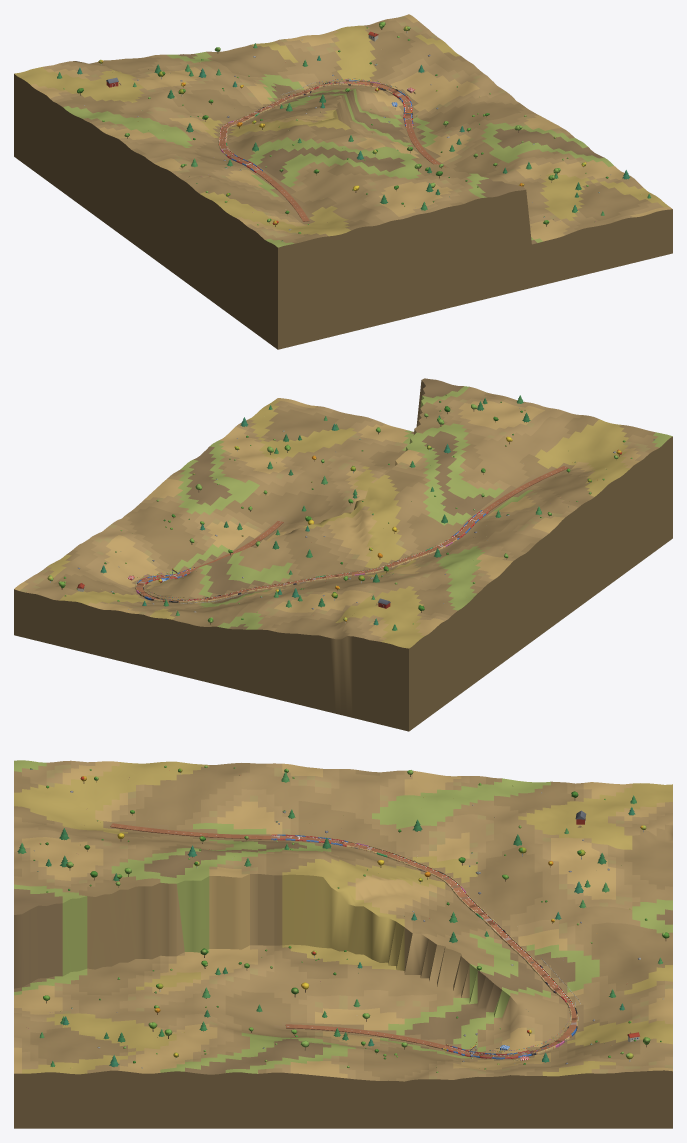
3 renders of one model, top to bottom at view 1: azimuth 30°, elevation 25°; view 2: azimuth 150°, elevation 25°; view 3: azimuth 270°, elevation 25°, orthographic. The views are drawn at different scales.
Visible parts, largest first — view 1: grass, road, pines, hay, leafy trees; view 2: grass, road, hay, pines, leafy trees; view 3: grass, road, pines, hay, leafy trees.
Part boxes in pixels (x1=…): grass: x1=14, y1=14, x2=672, y2=349; road: x1=219, y1=81, x2=445, y2=221; pines: x1=57, y1=43, x2=650, y2=215; hay: x1=218, y1=80, x2=413, y2=172; leafy trees: x1=77, y1=21, x2=560, y2=224; grass: x1=14, y1=378, x2=672, y2=731; road: x1=136, y1=466, x2=568, y2=601; hay: x1=135, y1=510, x2=488, y2=602; pines: x1=100, y1=395, x2=541, y2=630; leafy trees: x1=47, y1=404, x2=618, y2=622; grass: x1=14, y1=760, x2=672, y2=1128; road: x1=110, y1=823, x2=576, y2=1057; pines: x1=17, y1=772, x2=662, y2=1066; hay: x1=271, y1=834, x2=577, y2=1059; leafy trees: x1=43, y1=768, x2=669, y2=1059.
Size of the model in its own units: 420 by 112 by 486.
